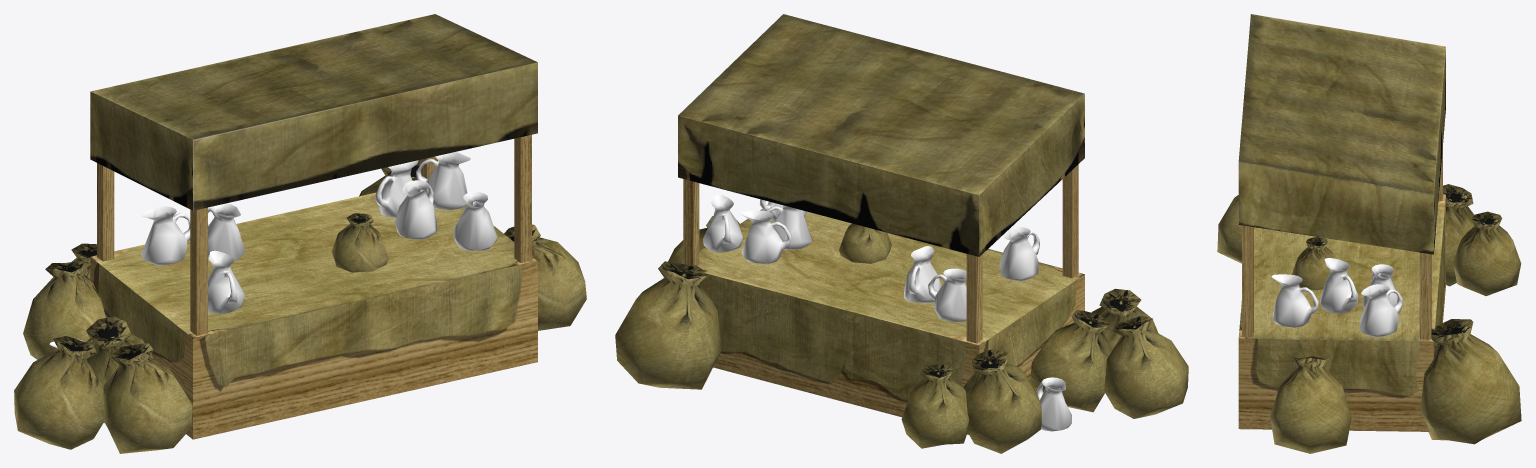
Rendered from store14_2.fbx.
3 views of the same model, side by side, from view 1: azimuth 30°, elevation 25°; view 2: azimuth 150°, elevation 25°; view 3: azimuth 270°, elevation 25° (orthographic). The views are drawn at different scales.
Visible parts, largest first — view 1: stand_15, bag_131, bag_134, bag_130, bag_136, bag_133, pot_6, pot_8, pot, bag_135, pot_5, pot_3 (+2 smaller); view 2: stand_15, bag_129, bag_131, bag_130, bag_135, bag_132, pot_4, pot_3, pot_6, bag_133, pot_8, bag_134 (+3 smaller); view 3: stand_15, bag_129, bag_136, bag_132, bag_130, pot_8, pot_5, pot, bag_133, bag_134, pot_4.
Part boxes in pixels (<box>): stand_15: <box>90,14,537,439</box>; bag_131: <box>14,336,104,449</box>; bag_134: <box>103,343,192,453</box>; bag_130: <box>23,261,105,359</box>; bag_136: <box>504,224,586,330</box>; bag_133: <box>331,213,388,272</box>; pot_6: <box>141,206,190,265</box>; pot_8: <box>416,152,470,210</box>; pot: <box>394,180,437,240</box>; bag_135: <box>86,316,153,422</box>; pot_5: <box>453,191,497,250</box>; pot_3: <box>208,250,244,314</box>; stand_15: <box>678,14,1084,434</box>; bag_129: <box>615,261,721,389</box>; bag_131: <box>1104,315,1188,418</box>; bag_130: <box>963,349,1041,453</box>; bag_135: <box>1030,310,1112,412</box>; bag_132: <box>901,364,969,448</box>; pot_4: <box>740,210,791,263</box>; pot_3: <box>999,227,1039,281</box>; pot_6: <box>928,268,966,322</box>; bag_133: <box>839,223,891,263</box>; pot_8: <box>703,195,743,252</box>; bag_134: <box>1092,288,1158,349</box>; stand_15: <box>1238,14,1445,431</box>; bag_129: <box>1420,319,1521,444</box>; bag_136: <box>1270,356,1351,453</box>; bag_132: <box>1453,211,1521,295</box>; bag_130: <box>1443,184,1474,286</box>; pot_8: <box>1359,284,1402,337</box>; pot_5: <box>1271,274,1318,327</box>; pot: <box>1320,258,1358,313</box>; bag_133: <box>1292,237,1336,290</box>; bag_134: <box>1217,195,1241,263</box>; pot_4: <box>1362,264,1397,308</box>.
Bounding box in the file's own units: 110 × 58.02 × 57.32.
